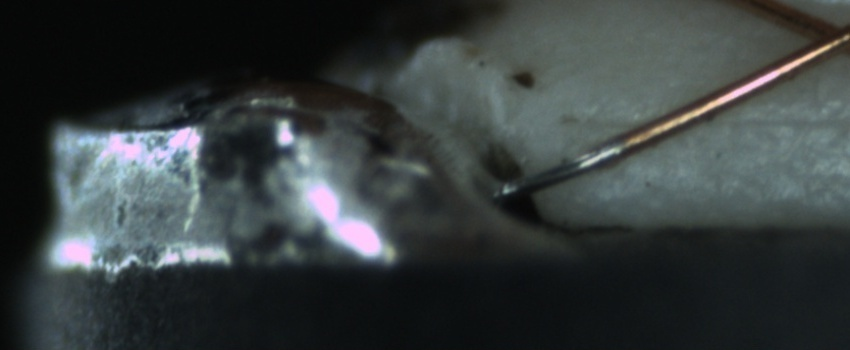CL: (779, 2, 849, 68)
DL: (561, 89, 849, 151)
TS: (498, 139, 629, 201)
